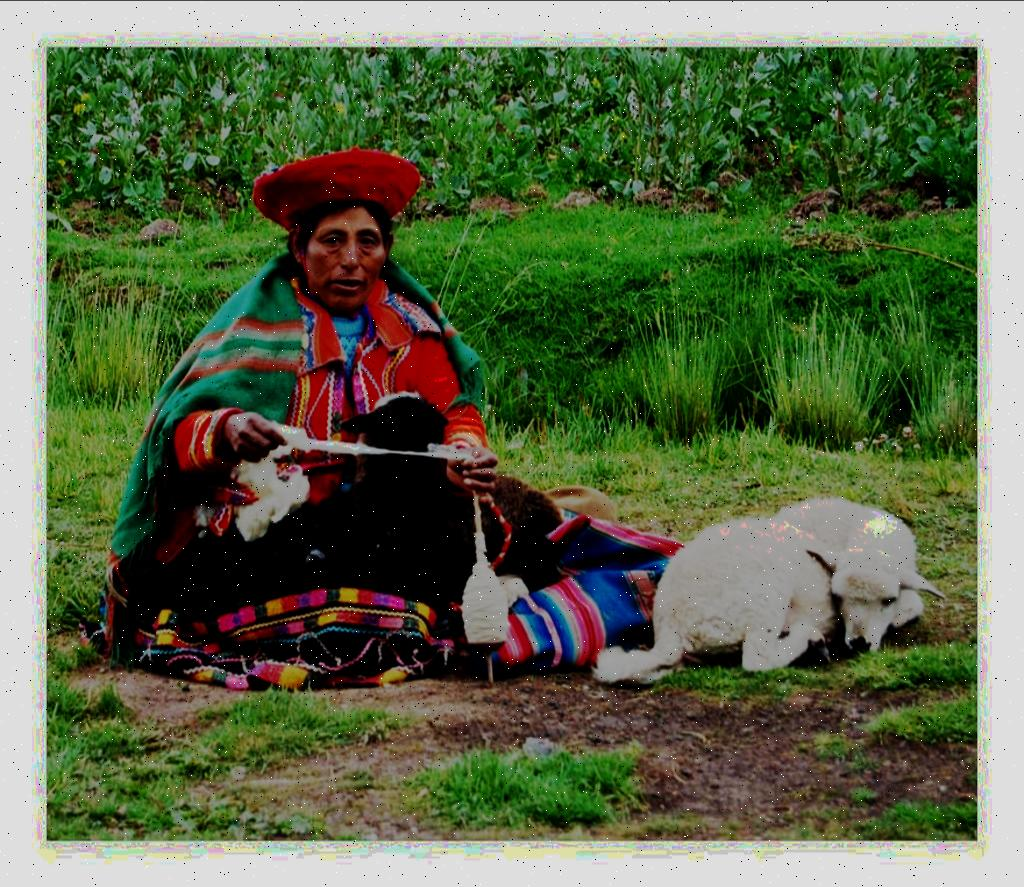Sheep: (596, 500, 944, 692), (310, 387, 572, 599)
